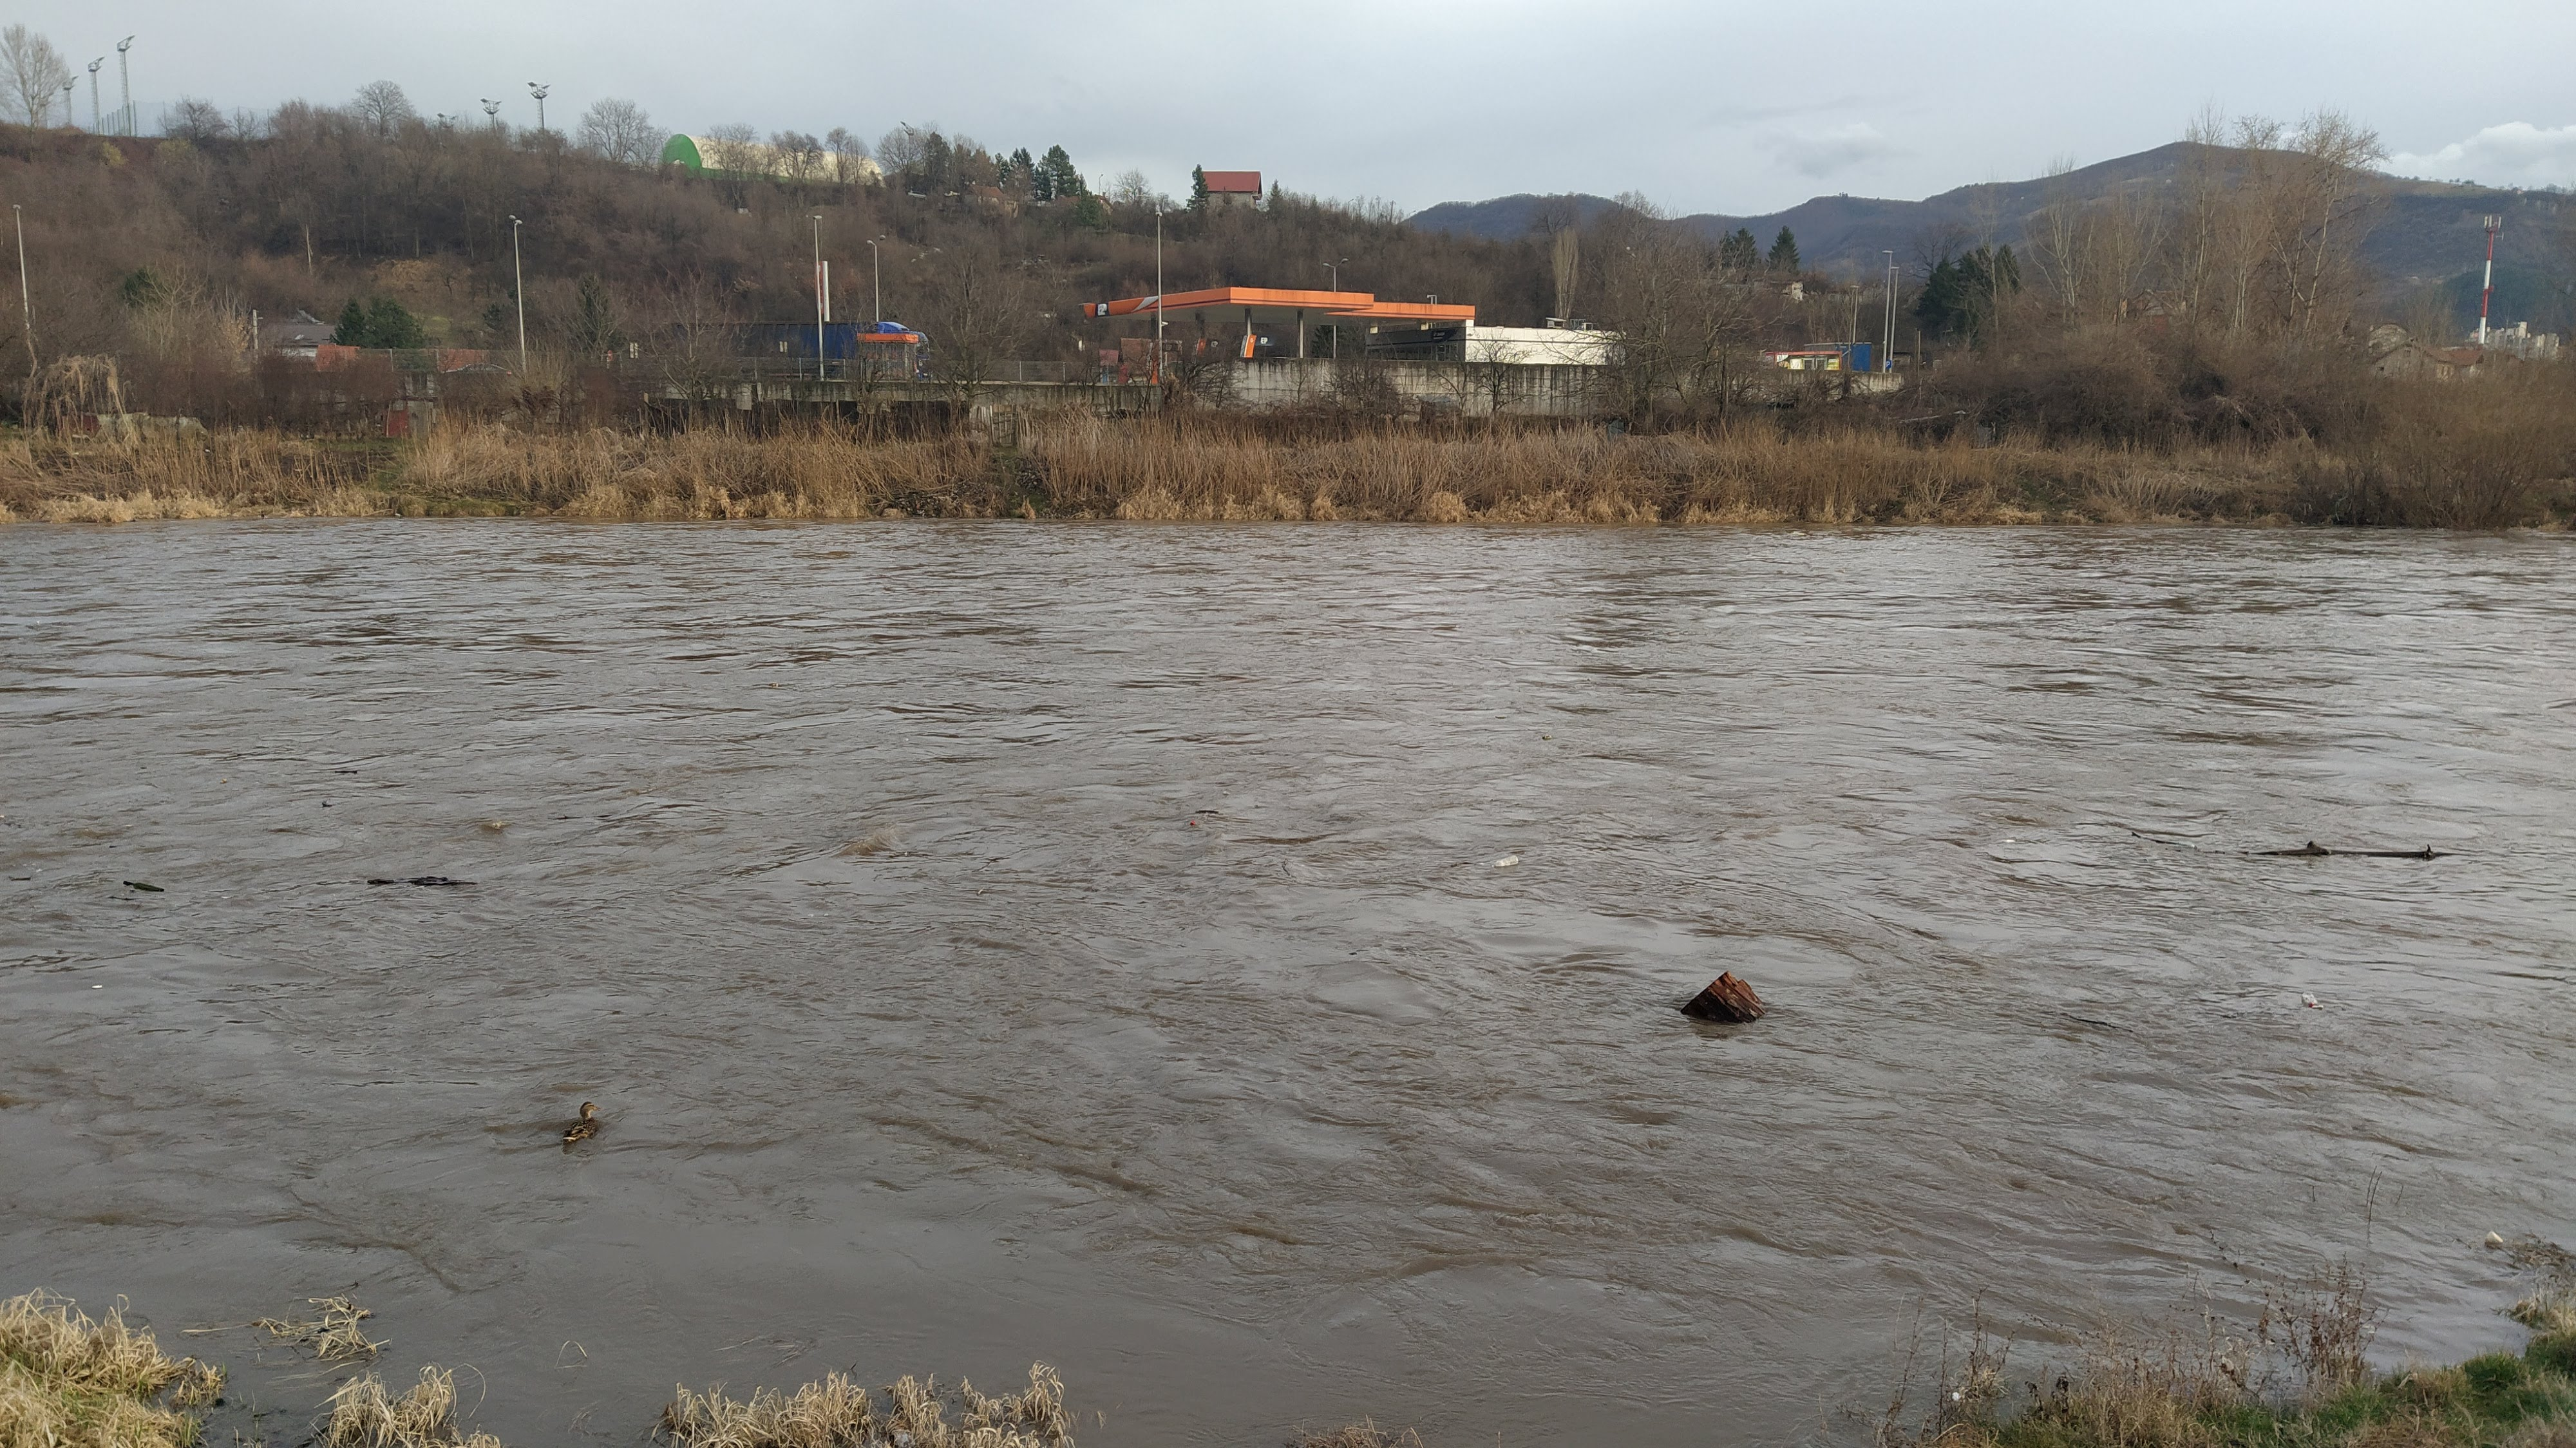Plastic Bottle: (124, 882, 165, 892), (2484, 1230, 2503, 1246), (1491, 855, 1518, 866), (2302, 991, 2316, 1007)
